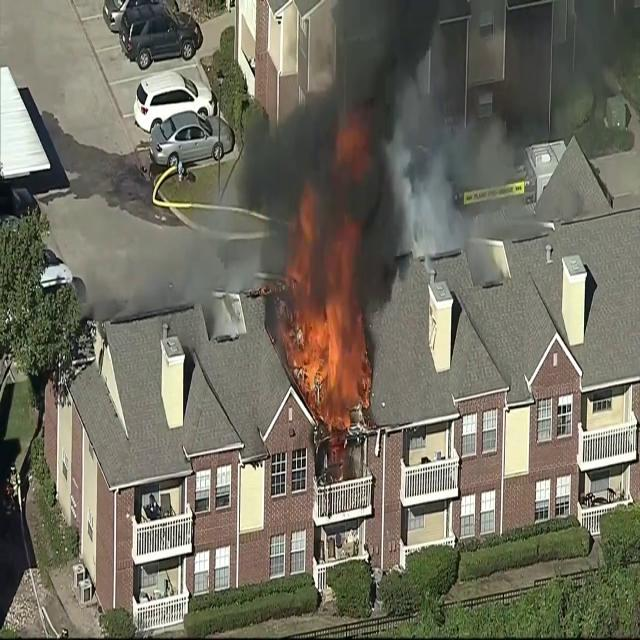Fire: (287, 241, 372, 425)
Smoke: (244, 1, 490, 291)
